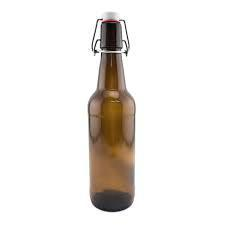beer: (87, 12, 136, 211)
